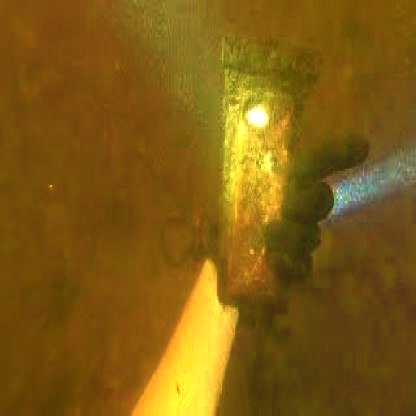cellphone: (226, 88, 295, 296)
